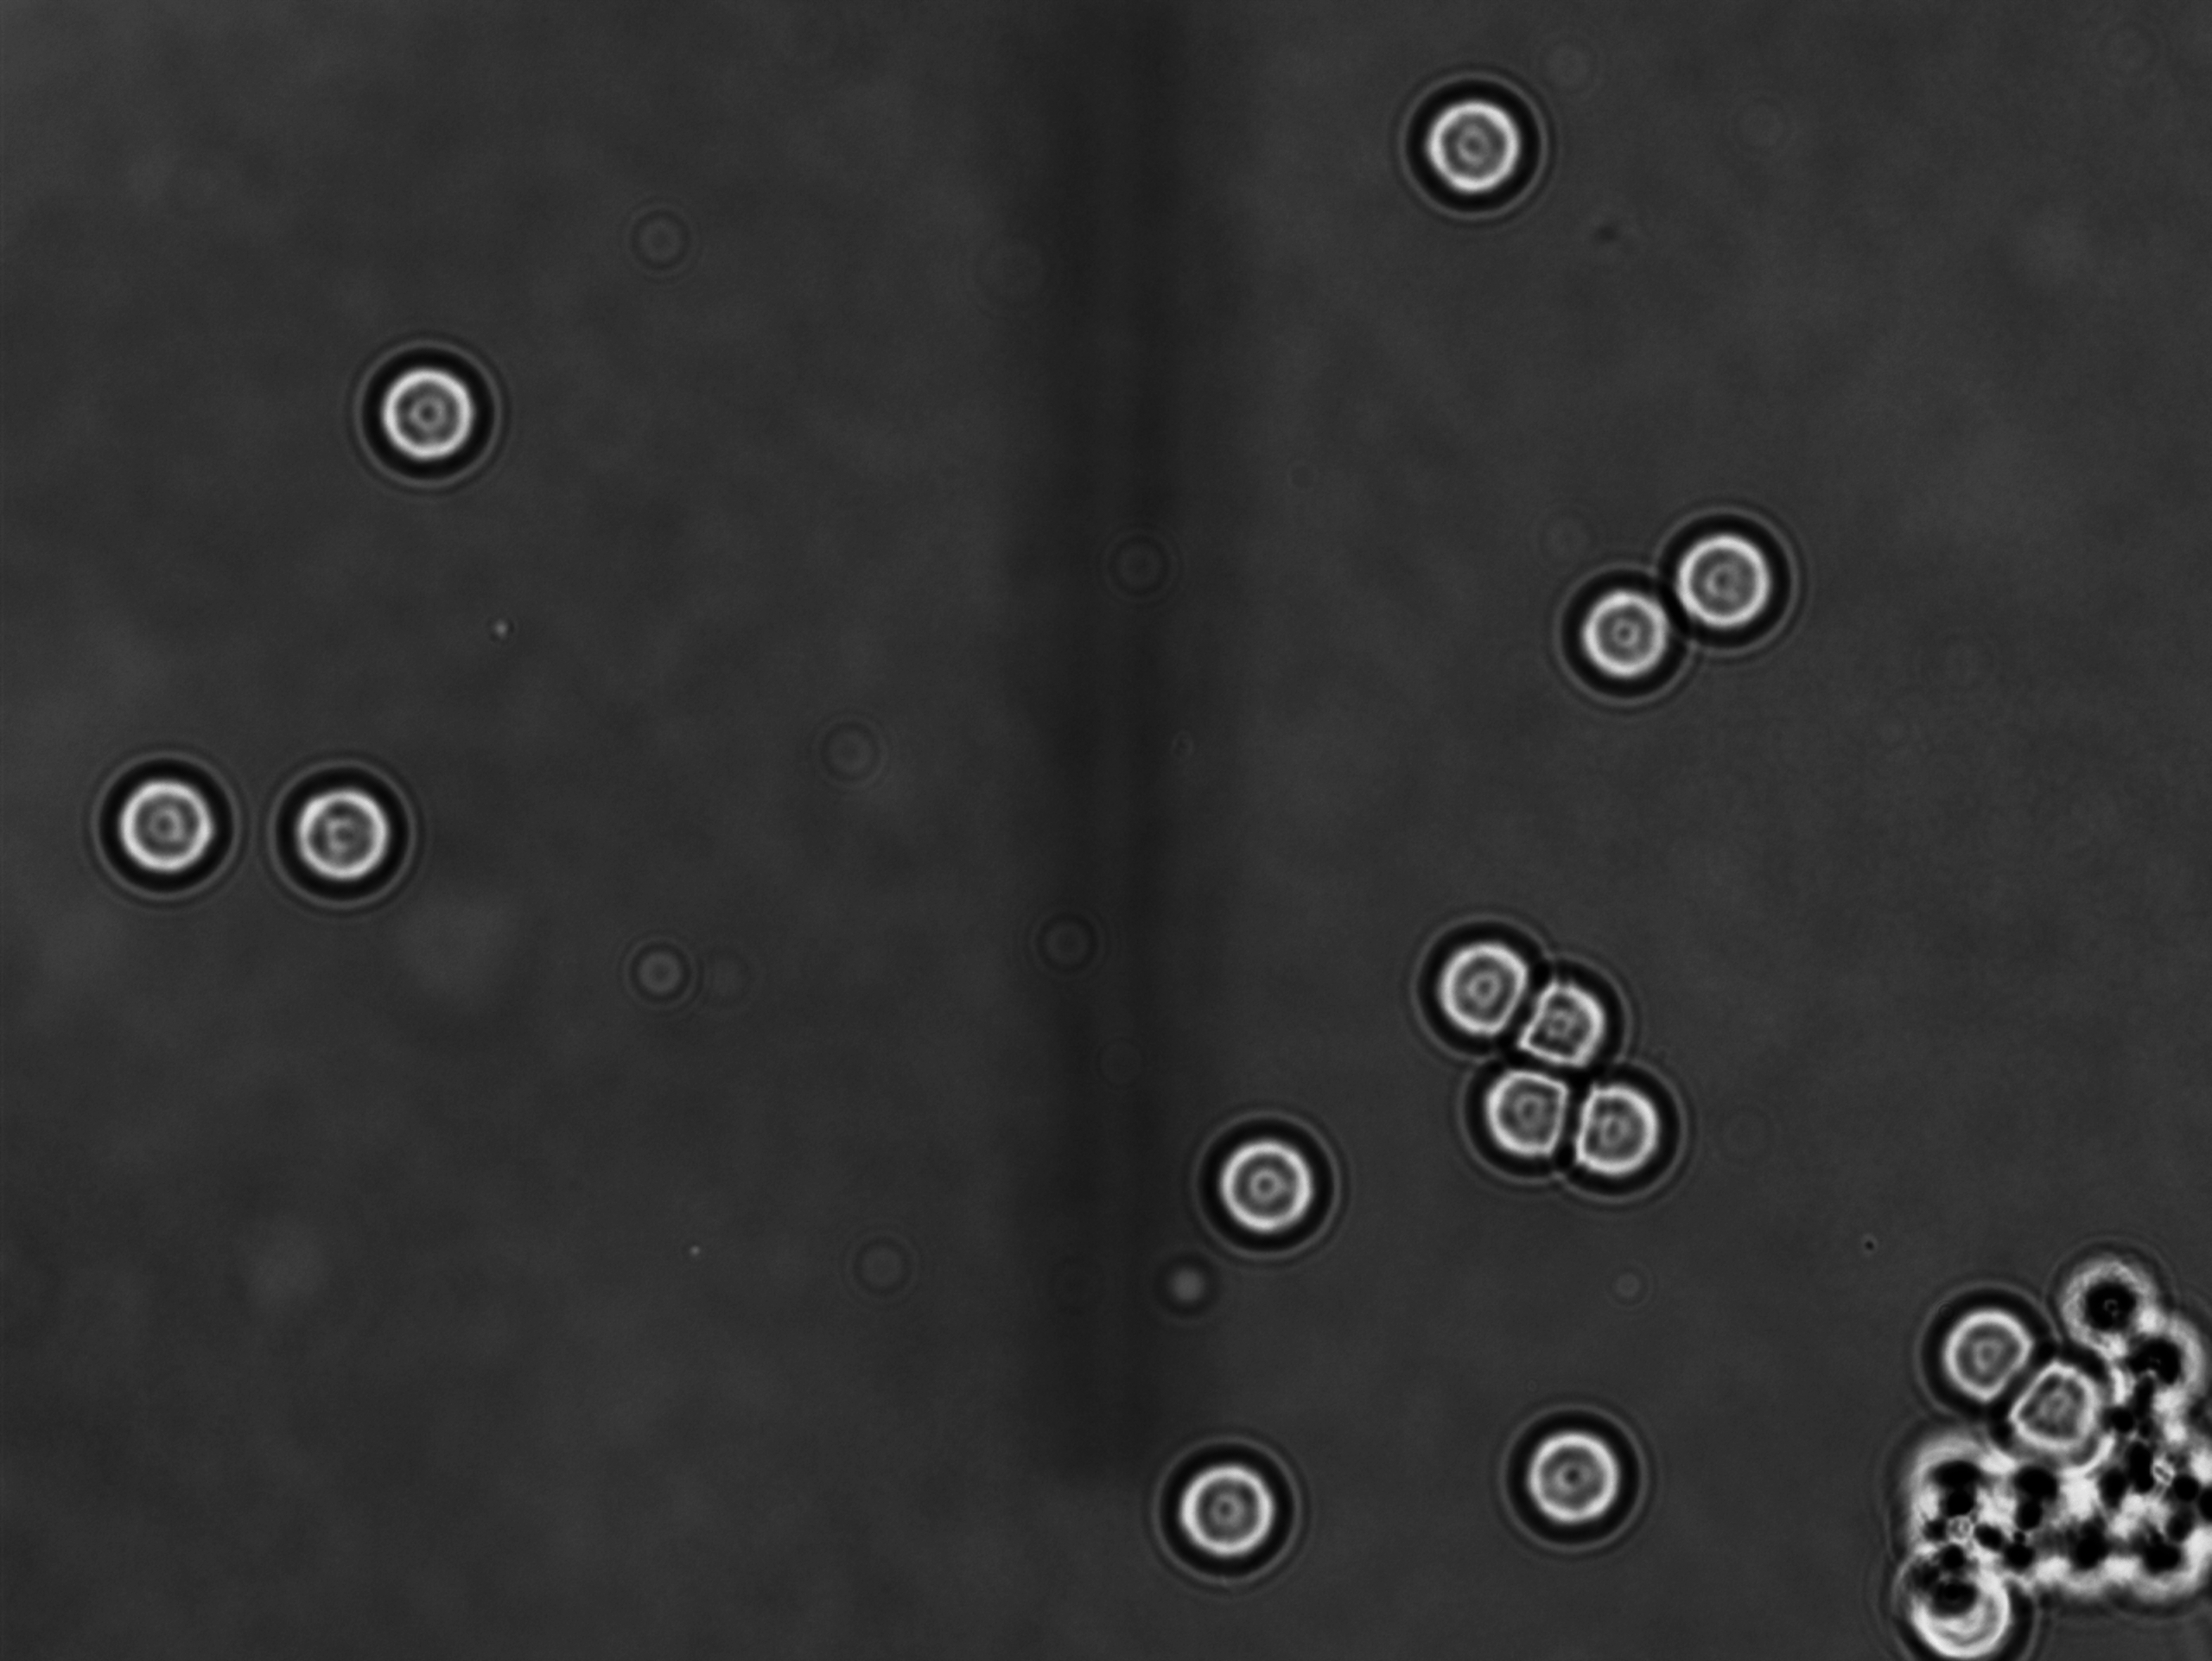depth:20: (1382, 63, 1558, 243), (1488, 1387, 1669, 1556), (1404, 893, 1574, 1064), (253, 750, 426, 918), (1176, 1104, 1348, 1272), (1139, 1425, 1319, 1586), (1649, 487, 1813, 654), (356, 333, 523, 494), (1535, 550, 1706, 705), (84, 736, 244, 899), (1455, 1036, 1610, 1197), (1549, 1045, 1699, 1199), (1499, 949, 1645, 1103), (1898, 1275, 2050, 1415)
